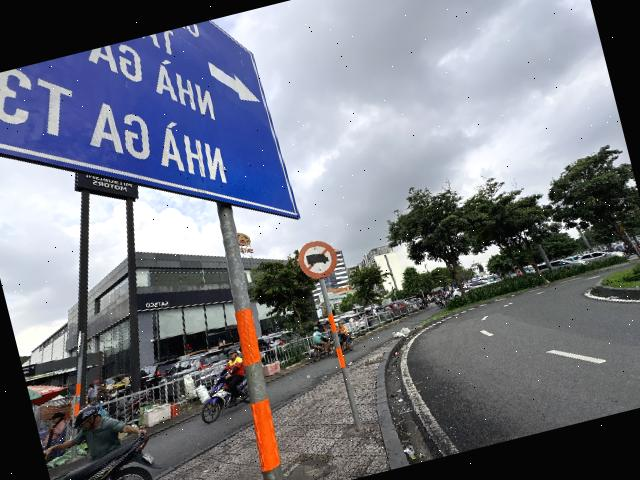cam-xe-tai: (294, 236, 342, 283)
